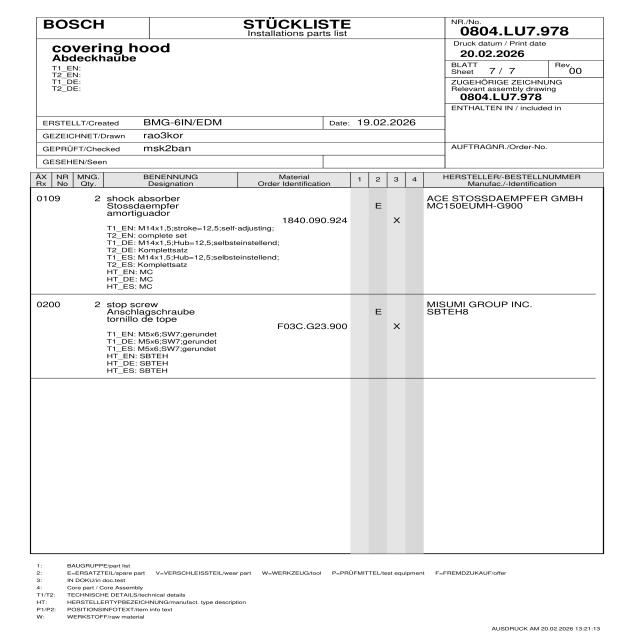dimension: (138, 225, 220, 232), (138, 240, 211, 247), (138, 254, 211, 261), (138, 331, 181, 338), (138, 338, 181, 345), (138, 345, 181, 352)
